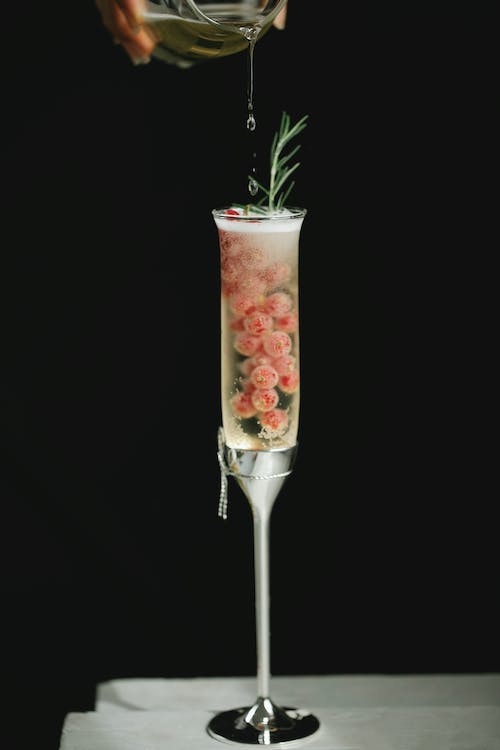alcohol: (204, 204, 324, 749), (142, 0, 291, 73)
